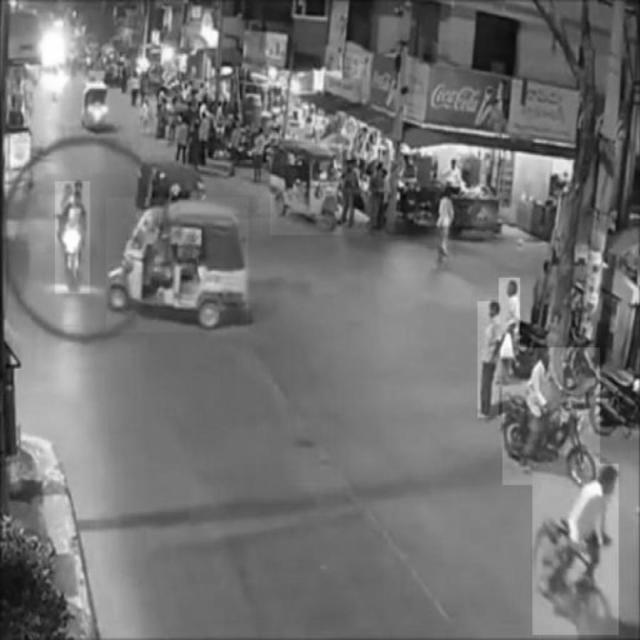person: (478, 301, 498, 417), (499, 278, 519, 386), (436, 189, 453, 260)
vehicle: (107, 198, 249, 332), (533, 464, 619, 634), (502, 348, 600, 485), (271, 144, 343, 235), (55, 181, 90, 293)
